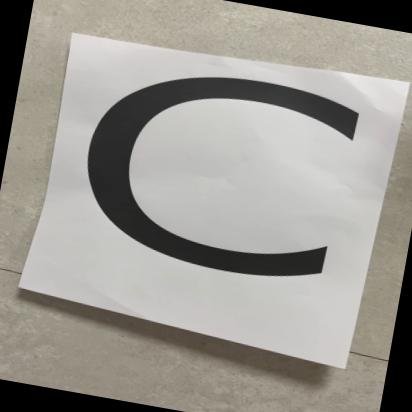seat: (22, 35, 395, 359)
